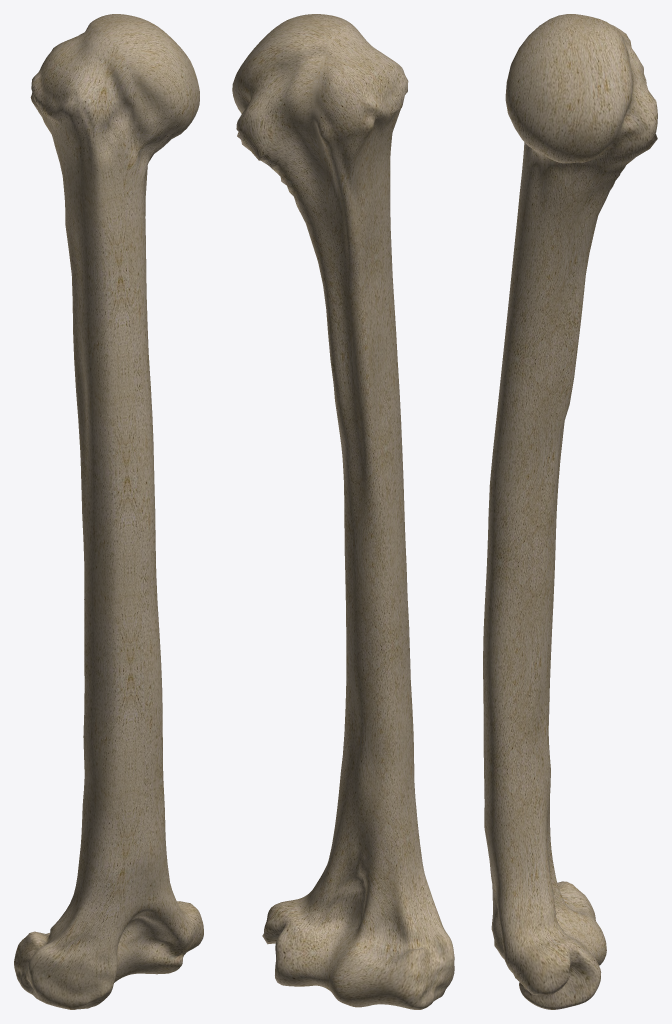
File: humerushumero.glb
3 views of the same model, side by side, from view 1: azimuth 30°, elevation 25°; view 2: azimuth 150°, elevation 25°; view 3: azimuth 270°, elevation 25° (orthographic). The views are drawn at different scales.
Parts seen in each view (by area): view 1: Object_2; view 2: Object_2; view 3: Object_2.
Part boxes in pixels (x1,y1,x2,y2): Object_2: (14, 14, 203, 1009); Object_2: (232, 14, 454, 1009); Object_2: (483, 14, 657, 1009).
Bounding box in the file's own units: 3.74 × 18.68 × 3.03.
1 material, 1 textured.
